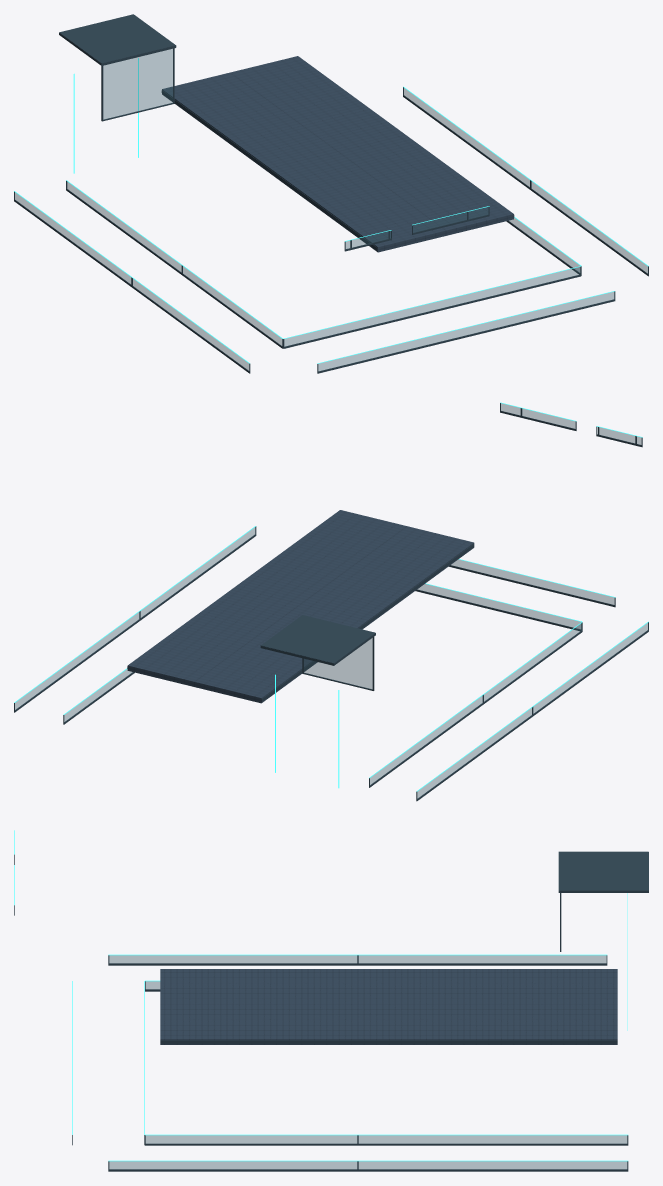
File: v02-detailed-03-05-coffered.glb
3 renders of one model, top to bottom at view 1: azimuth 30°, elevation 25°; view 2: azimuth 150°, elevation 25°; view 3: azimuth 270°, elevation 25°, orthographic. The views are drawn at different scales.
Visible parts, largest first — view 1: v02-detailed-03-05-coffered; view 2: v02-detailed-03-05-coffered; view 3: v02-detailed-03-05-coffered.
Part boxes in pixels (x1,y1,x2,y2): v02-detailed-03-05-coffered: (14, 14, 648, 373); v02-detailed-03-05-coffered: (14, 402, 648, 801); v02-detailed-03-05-coffered: (14, 830, 648, 1171).
Size of the model in its own units: 46.98 by 17.13 by 61.09.
5 materials, 1 textured.
